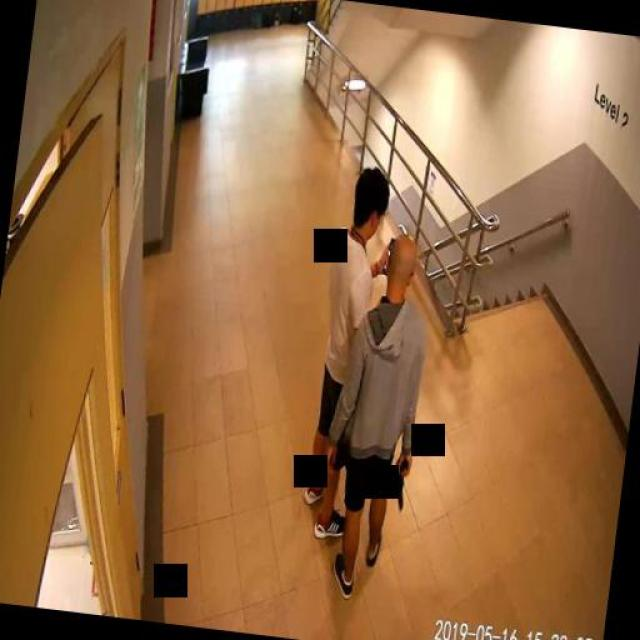gun: (389, 454, 410, 510)
